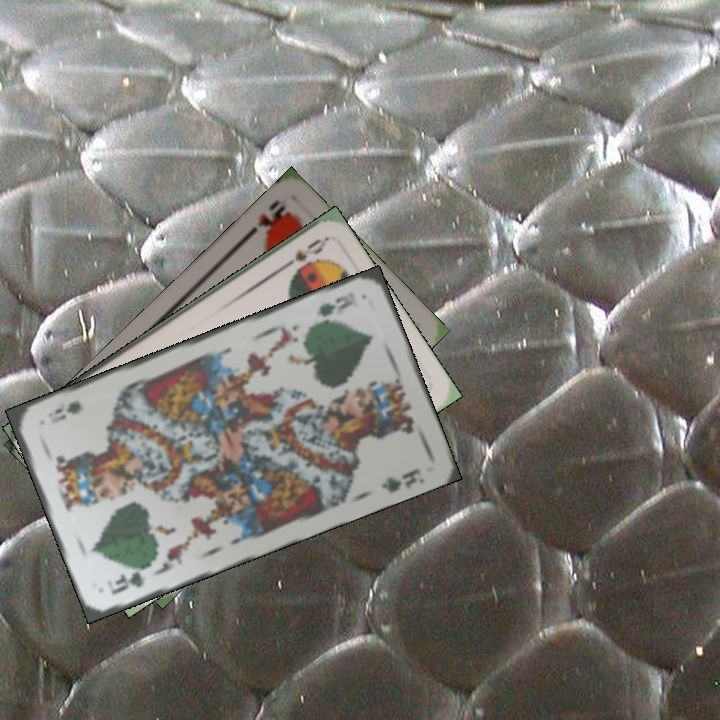GK: (310, 287, 358, 327), (107, 561, 155, 598)
HO: (240, 195, 292, 243)
SO: (275, 234, 329, 274)
